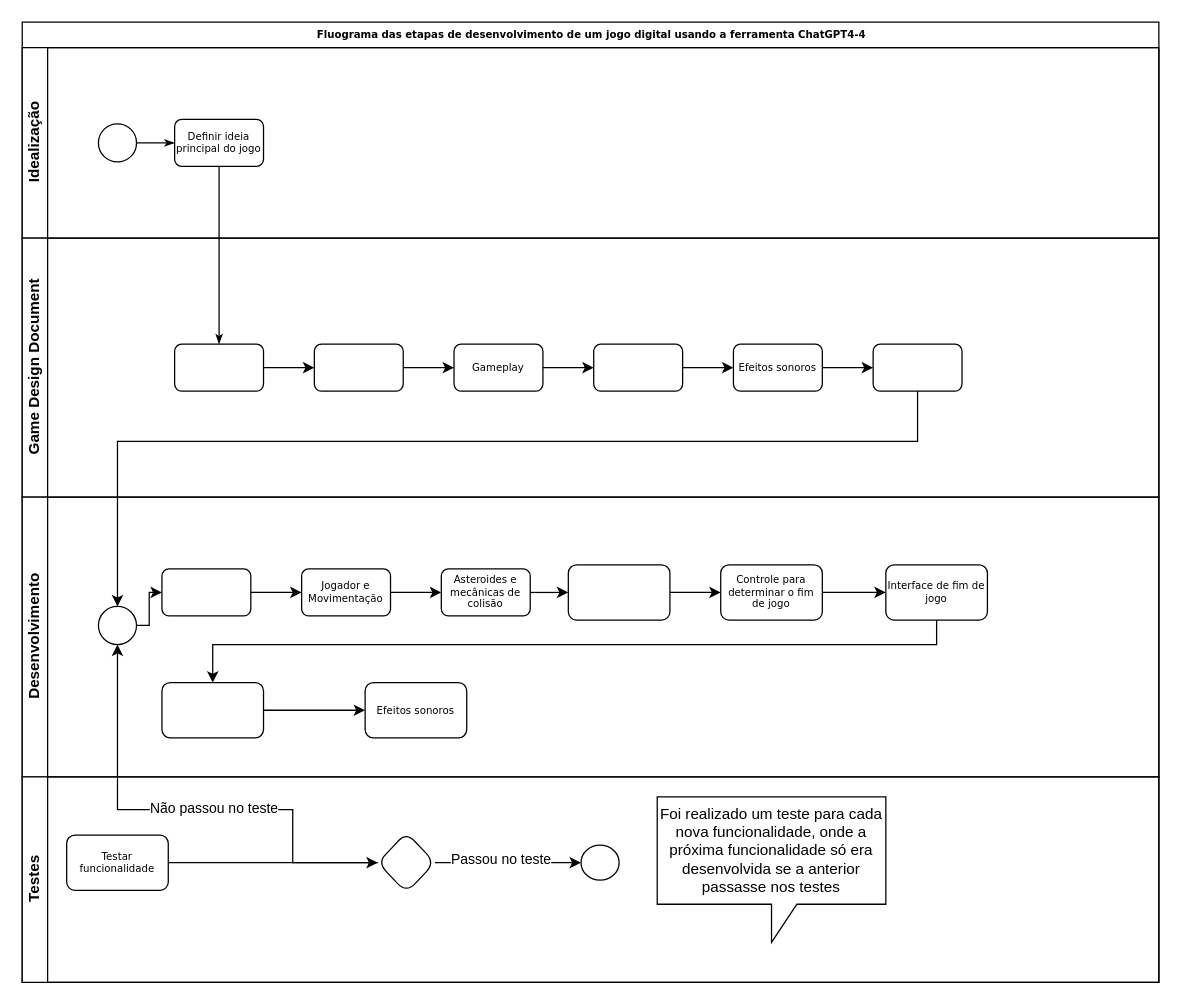
The diagram is 1181 pixels wide and 1005 high, and some of its shapes have lost their labels. The shapes that lost their labels are listed below. From the top down, each one's centre as x and y in pixels, then its label:
(218,367): Criar o Game Design Document
(358,367): Visão geral
(637,367): Elementos visuais
(917,367): Recompensas
(206,592): Rolagem do cenário de fundo
(618,591): Mecânicas dos lasers para o jogador e contador de munição
(212,709): Marcador de pontuação e maior pontuação
